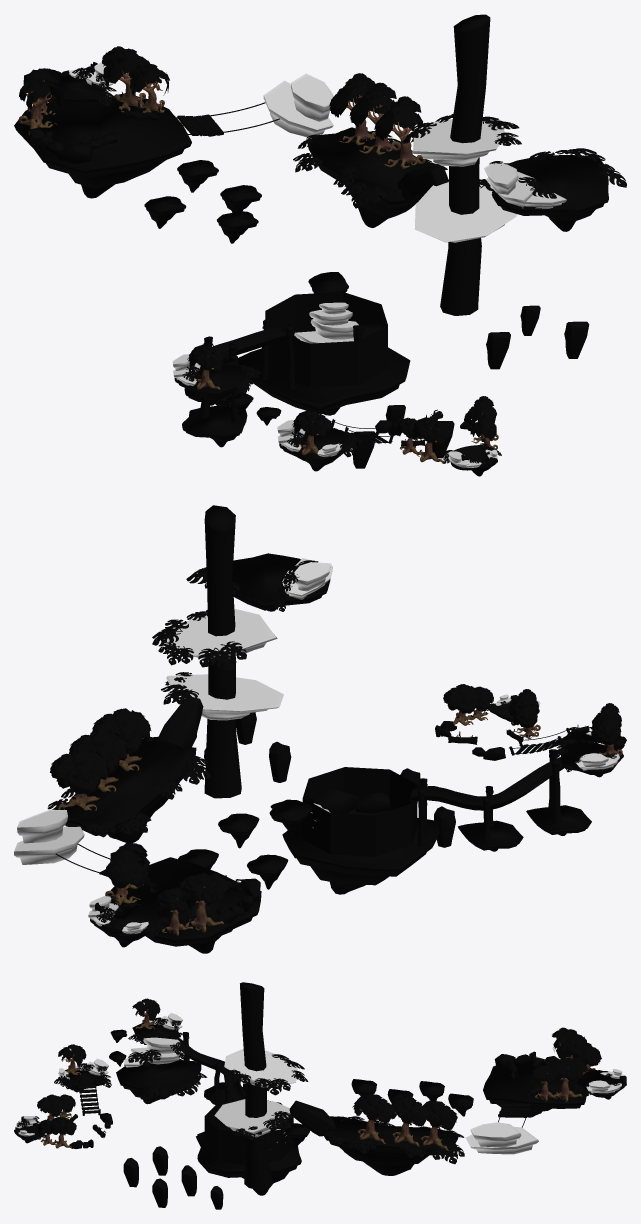
File: levelplataformerDARIEN.fbx
The picture shows the model from 3 angles, top to bottom: view 1: azimuth 30°, elevation 25°; view 2: azimuth 150°, elevation 25°; view 3: azimuth 270°, elevation 25°; orthographic projection. The views are drawn at different scales.
Visible parts, largest first — view 1: isla_LOD0; view 2: isla_LOD0; view 3: isla_LOD0.
Boxes of the visible parts, x1,y1,x2,y2 form: isla_LOD0: [14, 14, 626, 476]; isla_LOD0: [14, 505, 626, 953]; isla_LOD0: [14, 982, 626, 1209].
Size of the model in its own units: 389 by 310 by 665.
